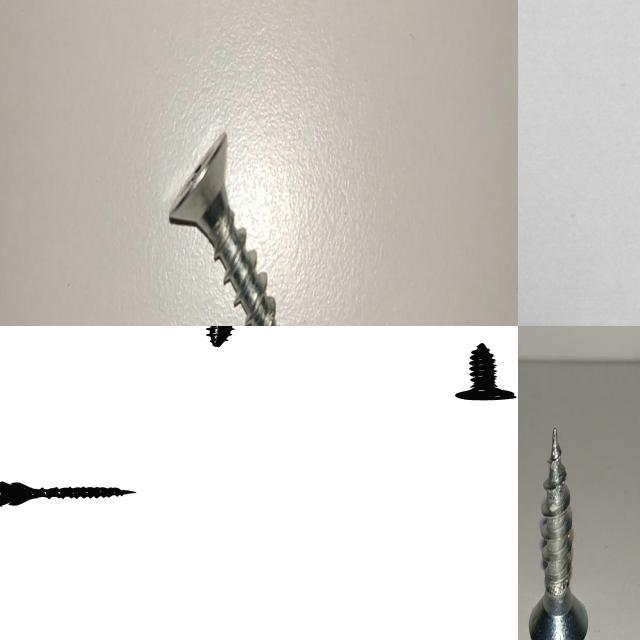Screw: (518, 0, 640, 326), (169, 132, 279, 326), (529, 426, 588, 640), (454, 343, 516, 400), (0, 482, 133, 506), (205, 326, 232, 346)
